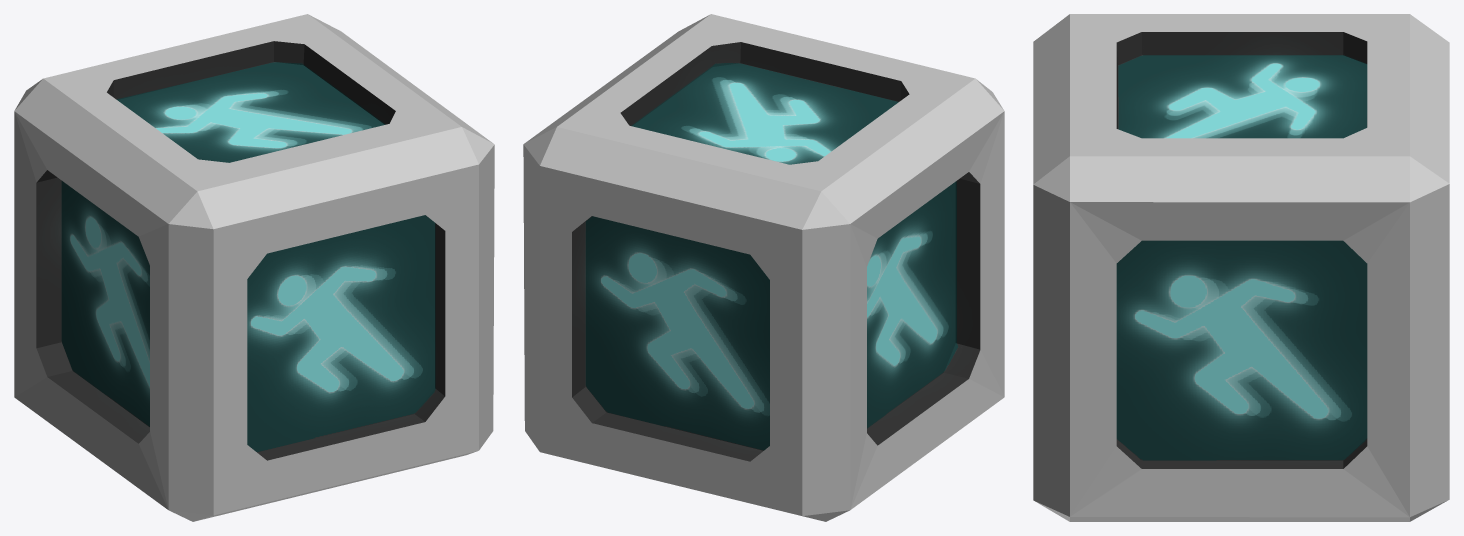
Rendered from ItemIcon_Thruster.fbx.
The picture shows the model from 3 angles, left to right: view 1: azimuth 30°, elevation 25°; view 2: azimuth 150°, elevation 25°; view 3: azimuth 270°, elevation 25°; orthographic projection. The views are drawn at different scales.
Parts seen in each view (by area): view 1: ItemIcon_Thruster; view 2: ItemIcon_Thruster; view 3: ItemIcon_Thruster.
Boxes of the visible parts, x1,y1,x2,y2 form: ItemIcon_Thruster: (14,14,494,521); ItemIcon_Thruster: (523,14,1004,521); ItemIcon_Thruster: (1033,14,1449,521).
Size of the model in its own units: 94.2 by 90.72 by 94.28.
